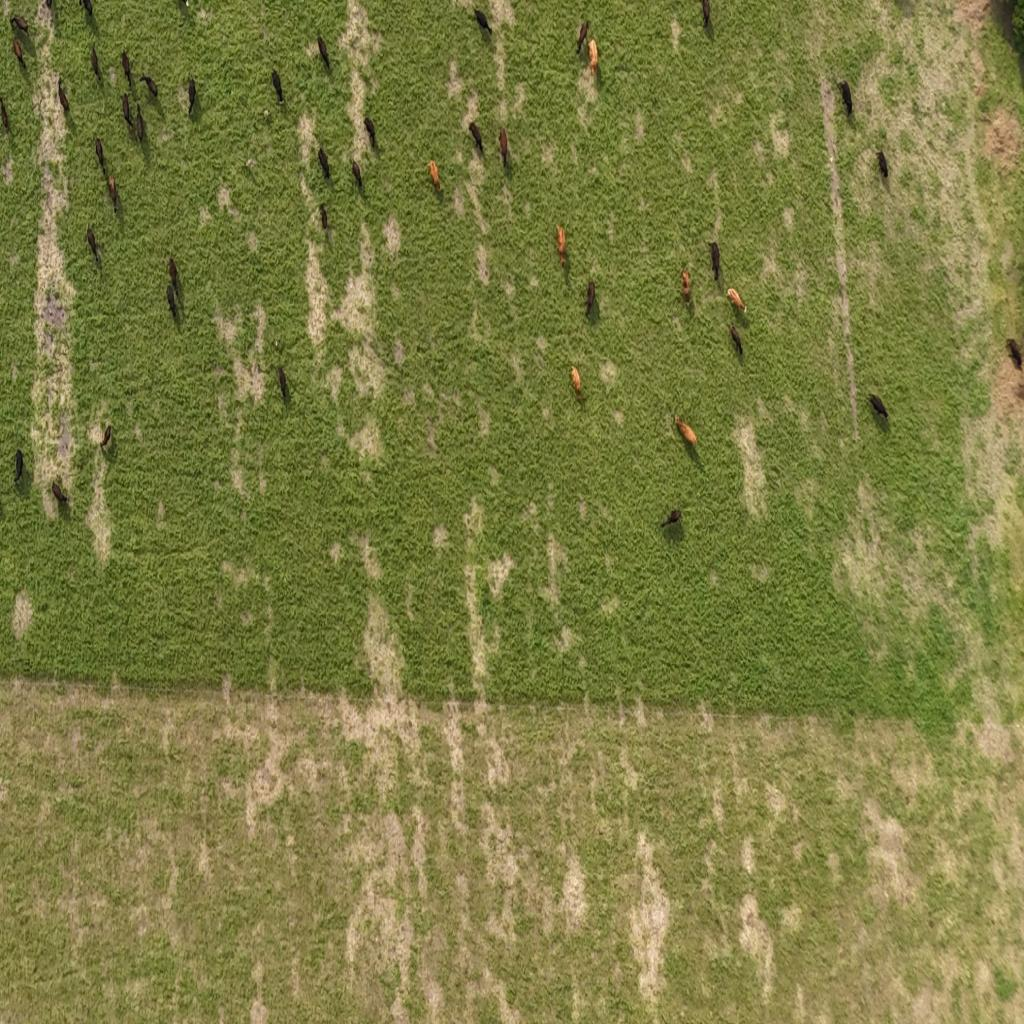cow: (674, 415, 696, 446), (473, 6, 493, 40), (1004, 335, 1024, 369), (662, 507, 684, 534), (868, 393, 889, 420), (86, 226, 100, 266), (728, 319, 744, 354), (168, 254, 181, 295), (271, 67, 284, 107), (318, 34, 332, 71), (576, 17, 590, 54), (468, 120, 483, 154), (876, 147, 890, 183), (727, 287, 746, 313), (838, 80, 852, 115), (12, 38, 26, 72), (12, 448, 25, 484), (121, 92, 133, 131), (141, 74, 159, 100), (166, 282, 178, 320), (186, 76, 198, 114), (52, 479, 68, 507), (108, 173, 119, 213), (318, 146, 330, 181), (277, 366, 288, 404), (588, 38, 599, 76), (95, 136, 106, 174), (121, 48, 132, 86), (428, 159, 441, 191), (556, 225, 566, 266), (498, 127, 508, 167), (710, 240, 720, 280), (585, 279, 596, 315), (58, 78, 69, 114), (90, 44, 100, 83), (364, 116, 376, 148), (570, 366, 582, 398), (0, 96, 10, 134), (135, 102, 144, 144), (11, 14, 29, 35), (100, 423, 112, 453), (351, 158, 362, 190), (681, 269, 691, 300), (700, 0, 711, 28), (79, 0, 93, 21), (320, 203, 329, 233), (44, 0, 53, 17)
